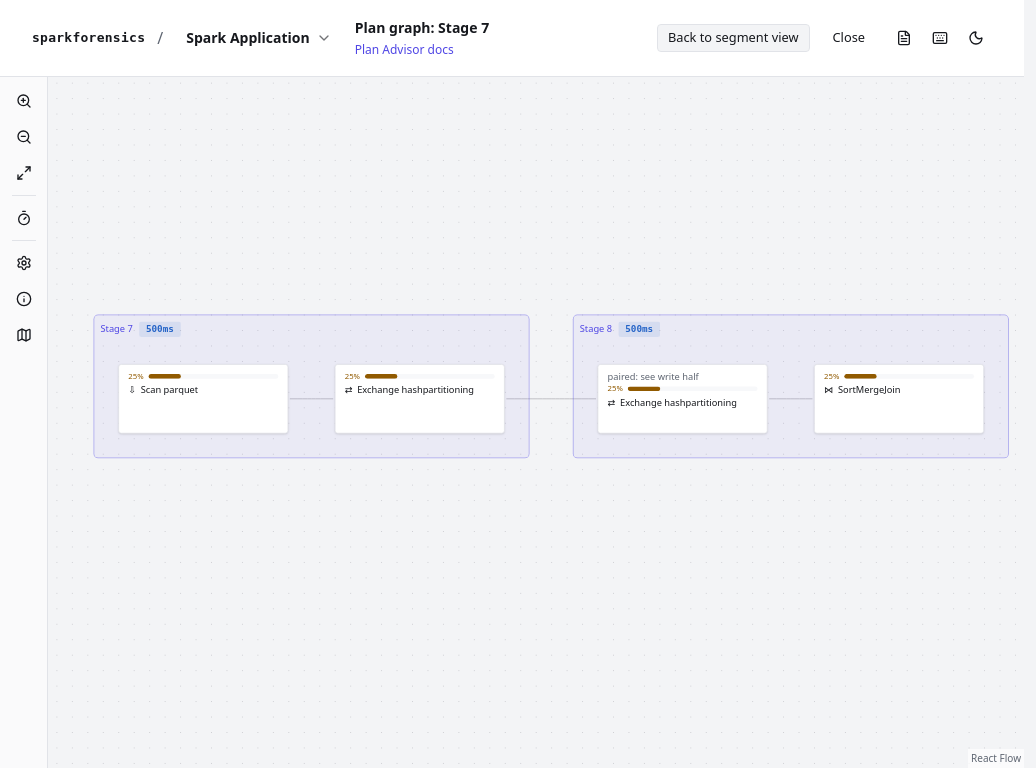
Test: clicking a stage box in the full graph switches focus to that stage's segment view
This screenshot has width=1036, height=768.
Check: the heading "Plan graph: Stage 7" is shown, box [355,18,489,38]
What coordinates should you click on to do the following:
click the button named "focus stage 8"
I would click on:
 (791, 386)
Its box is [574,315,1008,458].
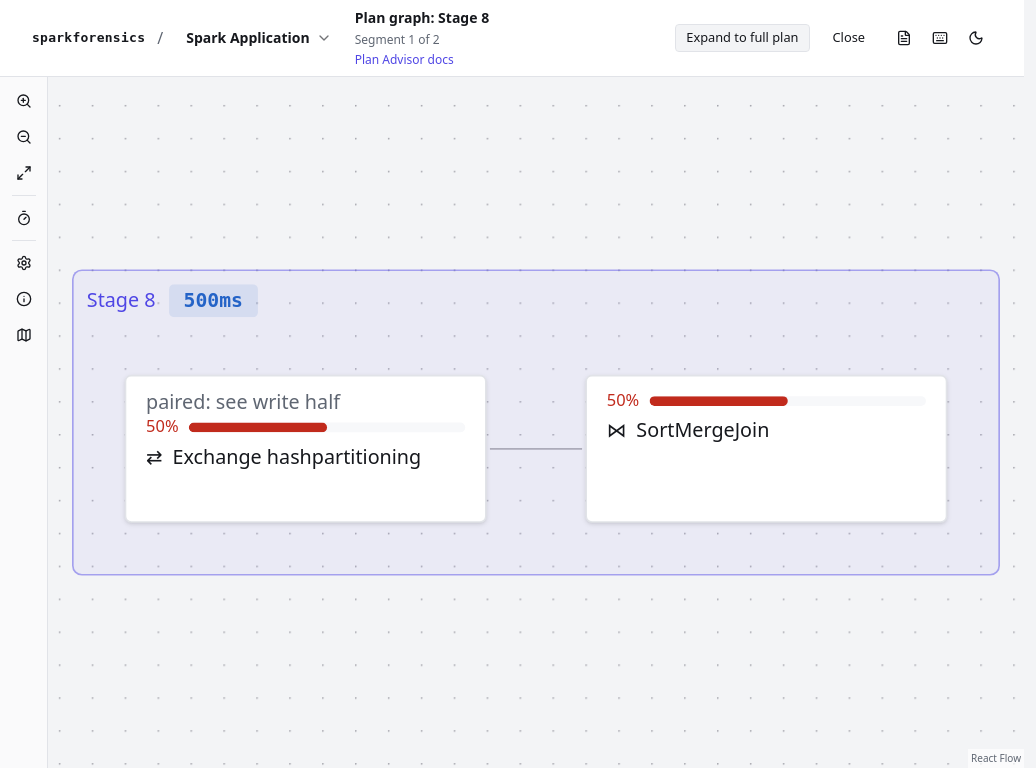
Check: the heading "Plan graph: Stage 8" is shown, box [355,8,489,28]
Check: the text "Segment 1 of 2" is shown, box [355,31,440,48]
Check: the button "Expand to full plan" is shown, box [675,24,810,52]
